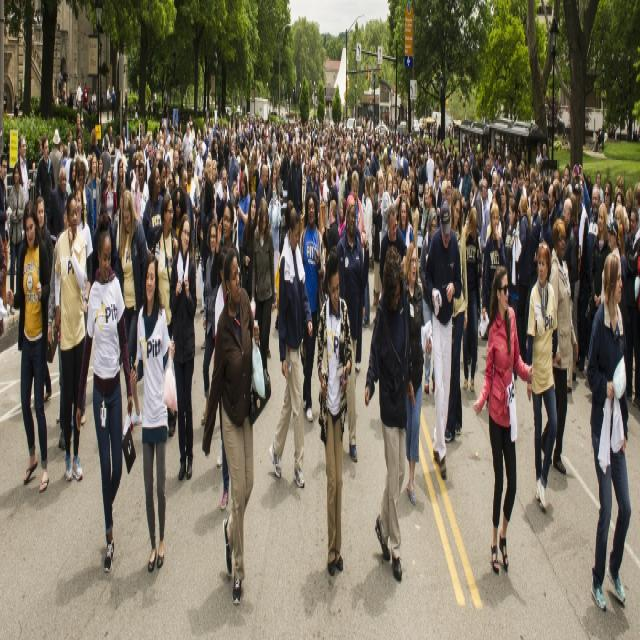body: (198, 109, 638, 230), (200, 242, 273, 608), (73, 206, 136, 580), (473, 264, 534, 576), (364, 243, 417, 584), (586, 250, 633, 618), (130, 246, 180, 580), (97, 70, 198, 221), (267, 205, 314, 496), (13, 197, 52, 496), (317, 243, 352, 576), (424, 198, 463, 482), (52, 192, 88, 486), (112, 186, 152, 437), (540, 214, 576, 477), (526, 238, 559, 512), (168, 213, 198, 483), (404, 240, 434, 509), (336, 195, 365, 466), (152, 192, 180, 440), (298, 192, 327, 426), (444, 182, 468, 445), (1, 0, 557, 11), (250, 197, 279, 405), (480, 198, 506, 408), (566, 226, 602, 376), (33, 120, 97, 203), (74, 187, 94, 427), (35, 193, 55, 404), (200, 216, 219, 429), (214, 252, 229, 510), (418, 206, 438, 397), (619, 237, 640, 416), (462, 204, 481, 393), (588, 202, 613, 334), (210, 197, 242, 291), (49, 61, 95, 123), (8, 160, 26, 317), (48, 229, 62, 429), (505, 230, 536, 310), (598, 219, 622, 307), (191, 222, 212, 320), (240, 195, 259, 301), (0, 150, 10, 313), (363, 234, 383, 314), (16, 132, 30, 206), (111, 237, 126, 286), (60, 198, 71, 232), (10, 90, 20, 116)
